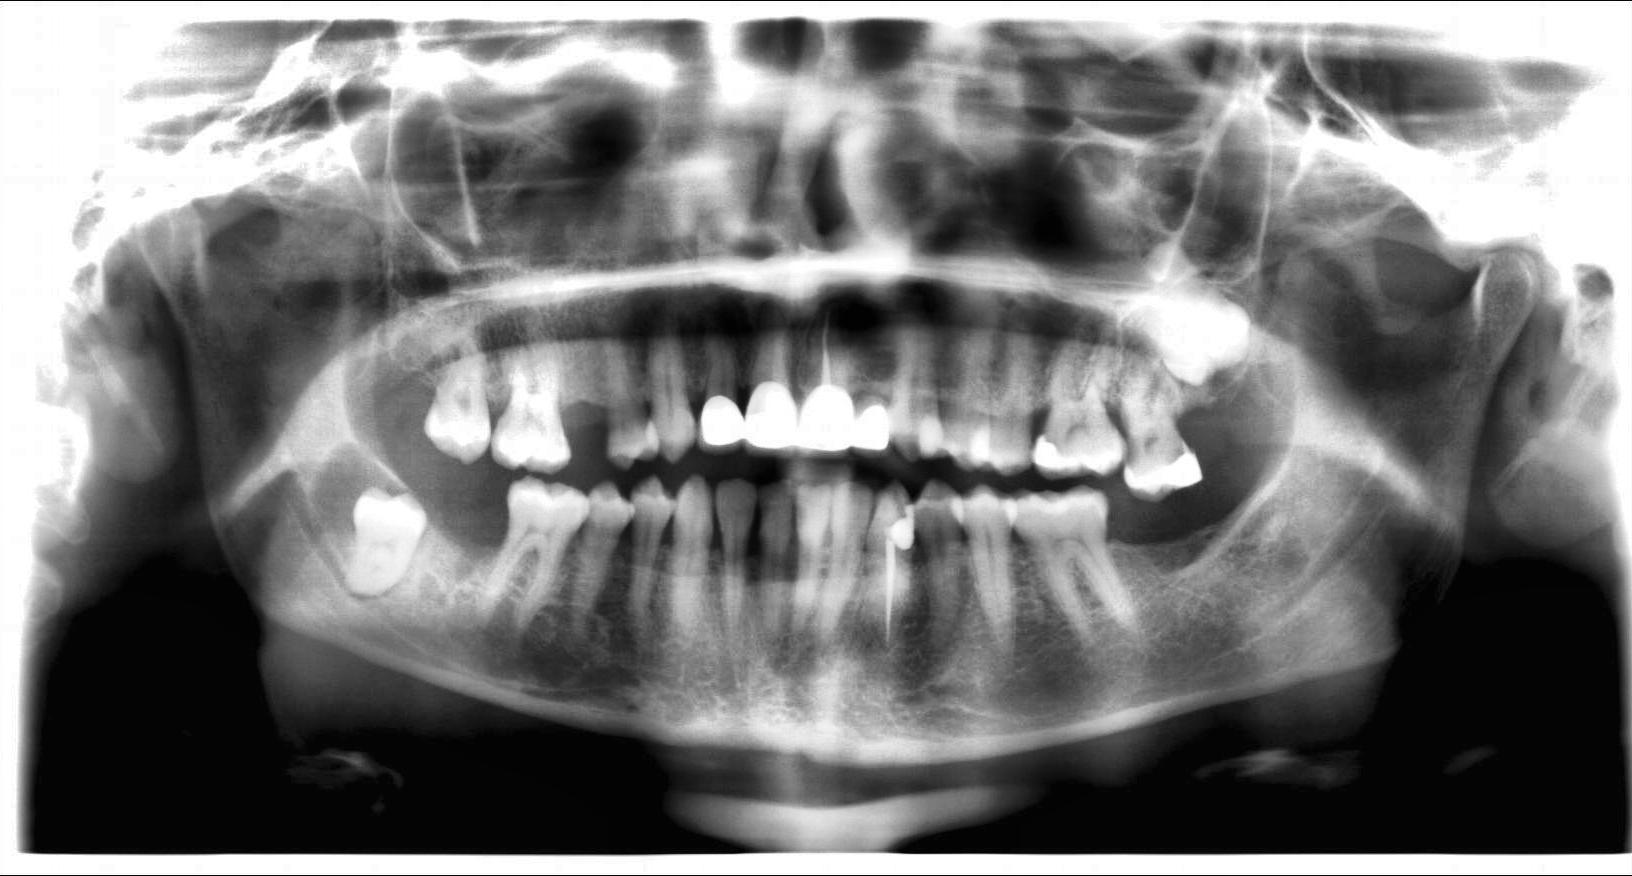okc: (304, 438, 429, 572)
